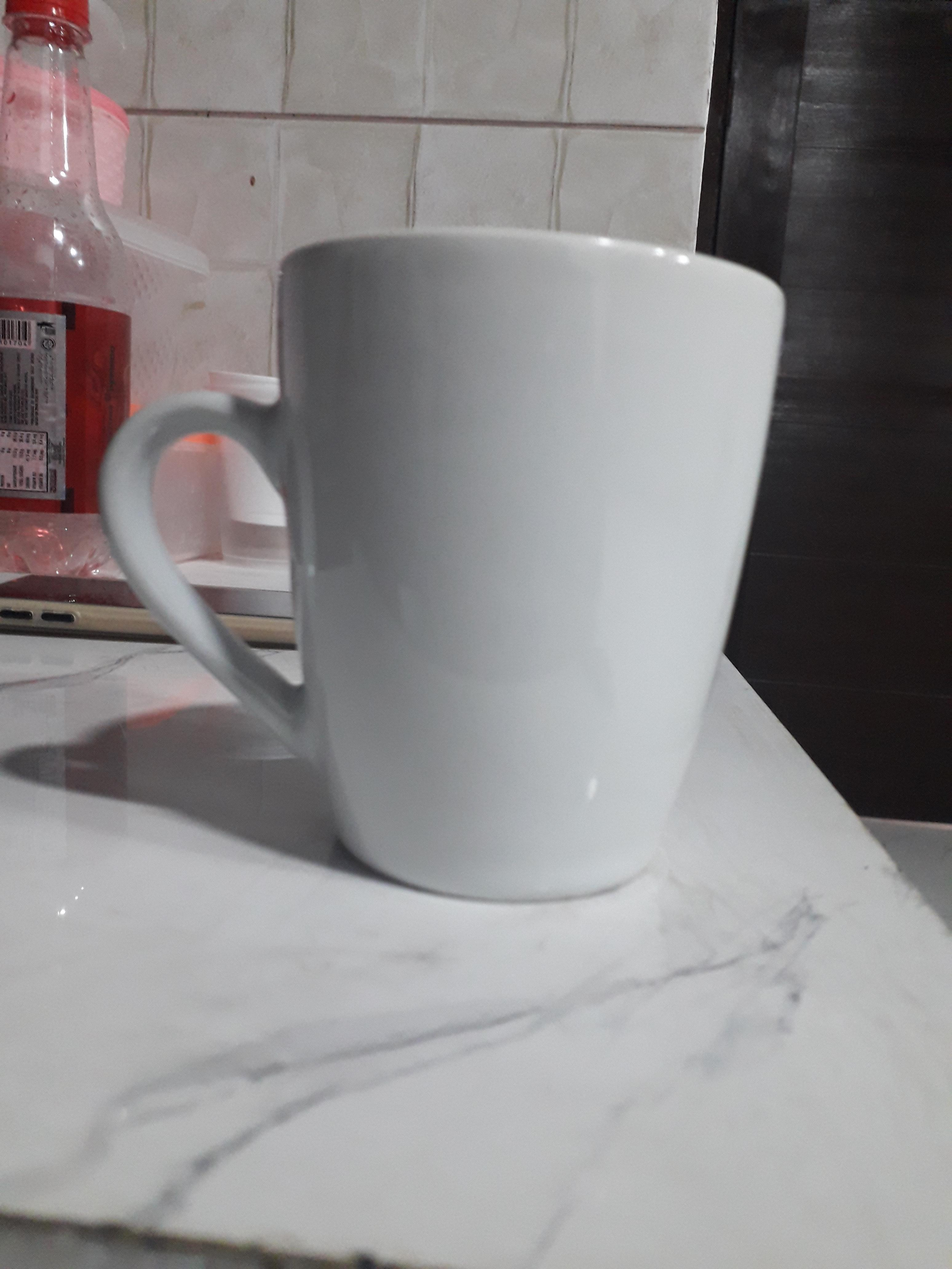bottle-plastic: (0, 1, 129, 588)
cup-handle: (103, 217, 794, 895)
